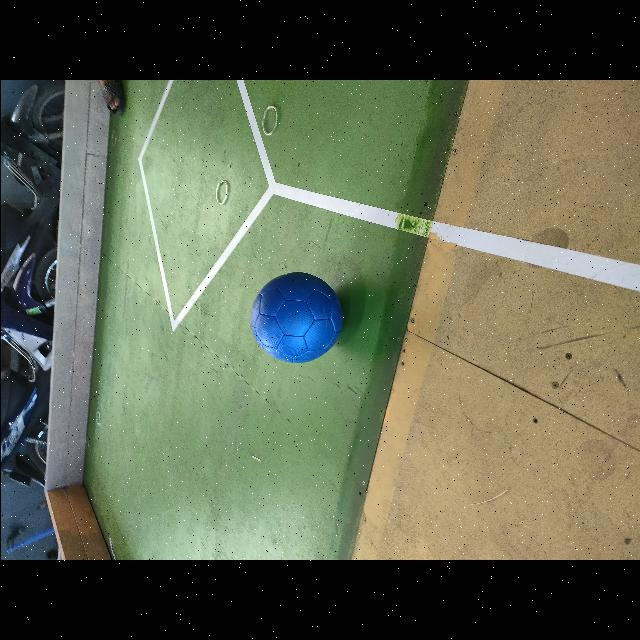B: (250, 273, 342, 363)
